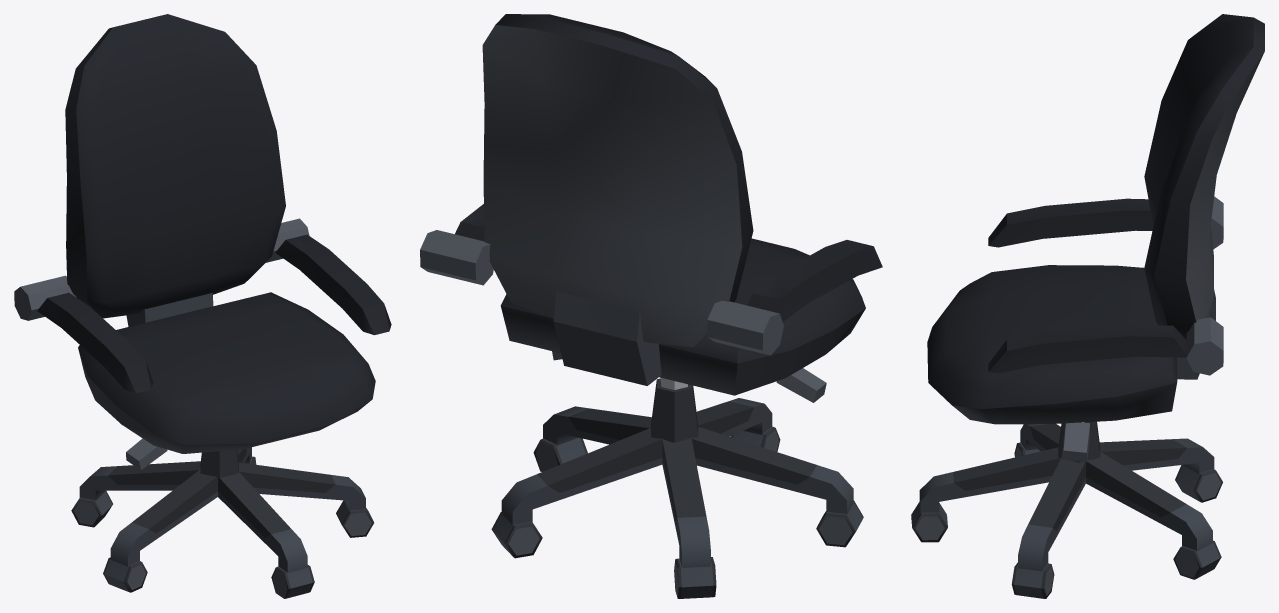
Rendered from cadeira_escritorio_preta_cassino_pacote.glb.
3 renders of one model, left to right at view 1: azimuth 30°, elevation 25°; view 2: azimuth 150°, elevation 25°; view 3: azimuth 270°, elevation 25°, orthographic. The views are drawn at different scales.
Parts seen in each view (by area): view 1: giro_assento, cadeira_escritorio_preta_cassino_pacote; view 2: giro_assento, cadeira_escritorio_preta_cassino_pacote; view 3: giro_assento, cadeira_escritorio_preta_cassino_pacote.
Part boxes in pixels (left/top/right/bottom): giro_assento: left=14, top=14, right=391, bottom=469; cadeira_escritorio_preta_cassino_pacote: left=71, top=447, right=373, bottom=598; giro_assento: left=420, top=14, right=882, bottom=402; cadeira_escritorio_preta_cassino_pacote: left=491, top=378, right=863, bottom=598; giro_assento: left=927, top=14, right=1264, bottom=462; cadeira_escritorio_preta_cassino_pacote: left=911, top=421, right=1222, bottom=598.
Bounding box in the file's own units: 0.6427 × 1.02 × 0.6504.
Materials: 1 (1 with a texture image).
